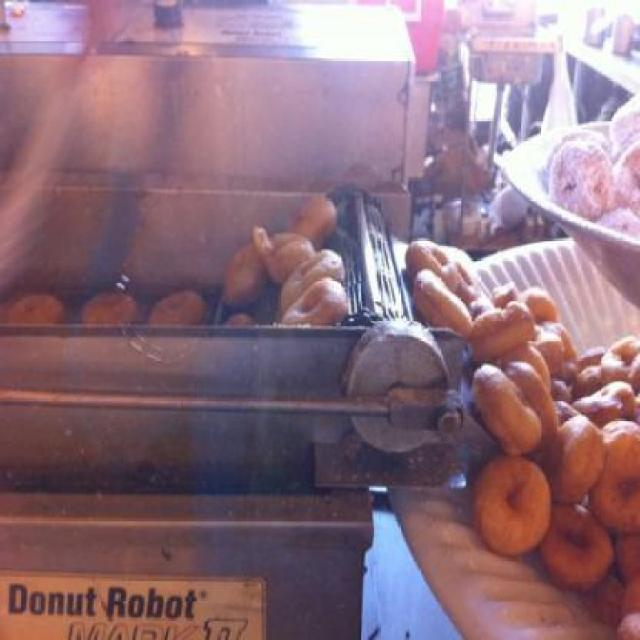Donuts: (7, 184, 639, 624)
